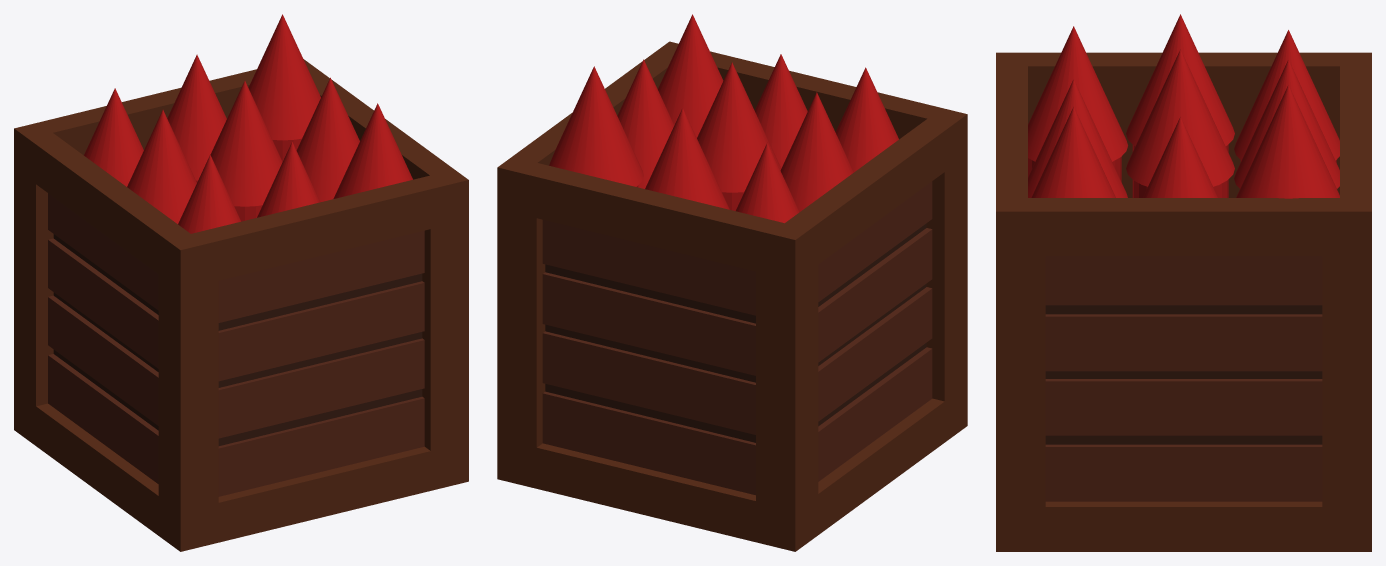
The model's file is cohetes.fbx.
3 renders of one model, left to right at view 1: azimuth 30°, elevation 25°; view 2: azimuth 150°, elevation 25°; view 3: azimuth 270°, elevation 25°, orthographic. The views are drawn at different scales.
Parts seen in each view (by area): view 1: Box001, Cone011, Cone004, Cone002, Cone005, Cone012, Cone008, Cone013, Cone006, Cone007; view 2: Box001, Cone011, Cone004, Cone005, Cone008, Cone012, Cone002, Cone006, Cone007, Cone013; view 3: Box001, Cone004, Cone011, Cone006, Cone008, Cone005, Cone013, Cone002, Cone012, Cone007.
Boxes of the visible parts, left/top/right/bottom form: Box001: left=14, top=59, right=468, bottom=551; Cone011: left=248, top=14, right=320, bottom=161; Cone004: left=210, top=80, right=282, bottom=221; Cone002: left=296, top=77, right=359, bottom=202; Cone005: left=127, top=110, right=196, bottom=223; Cone012: left=167, top=54, right=226, bottom=182; Cone008: left=333, top=103, right=412, bottom=198; Cone013: left=84, top=88, right=143, bottom=186; Cone006: left=178, top=155, right=240, bottom=233; Cone007: left=257, top=142, right=319, bottom=217; Box001: left=497, top=41, right=967, bottom=551; Cone011: left=549, top=66, right=643, bottom=187; Cone004: left=697, top=62, right=780, bottom=210; Cone005: left=780, top=92, right=853, bottom=211; Cone008: left=658, top=14, right=723, bottom=137; Cone012: left=645, top=108, right=729, bottom=209; Cone002: left=617, top=59, right=674, bottom=188; Cone006: left=835, top=67, right=898, bottom=172; Cone007: left=754, top=54, right=807, bottom=168; Cone013: left=736, top=142, right=799, bottom=223; Box001: left=996, top=52, right=1371, bottom=551; Cone004: left=1126, top=49, right=1234, bottom=197; Cone011: left=1236, top=85, right=1339, bottom=198; Cone006: left=1028, top=26, right=1127, bottom=181; Cone008: left=1031, top=106, right=1115, bottom=197; Cone005: left=1126, top=14, right=1234, bottom=152; Cone013: left=1234, top=30, right=1339, bottom=162; Cone002: left=1143, top=116, right=1217, bottom=197; Cone012: left=1234, top=59, right=1339, bottom=188; Cone007: left=1028, top=79, right=1127, bottom=197.
Bounding box in the file's own units: 19.69 × 25.23 × 19.69.
